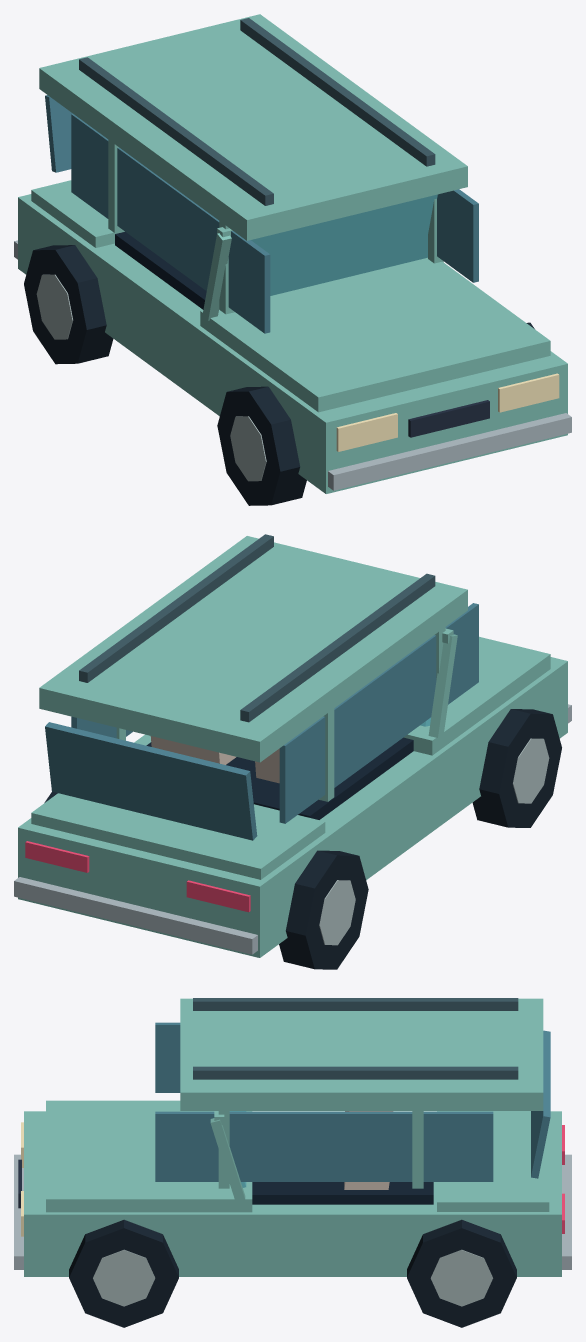
File: vehicle-wagon.obj
The picture shows the model from 3 angles, top to bottom: view 1: azimuth 30°, elevation 25°; view 2: azimuth 150°, elevation 25°; view 3: azimuth 270°, elevation 25°; orthographic projection. The views are drawn at different scales.
Parts seen in each view (by area): view 1: vehicle-wagon; view 2: vehicle-wagon; view 3: vehicle-wagon.
Part boxes in pixels (x1,y1,x2,y2): vehicle-wagon: (14,14,571,505); vehicle-wagon: (14,534,571,969); vehicle-wagon: (14,998,571,1327).
Size of the model in its own units: 2.28 by 2.06 by 4.46.
